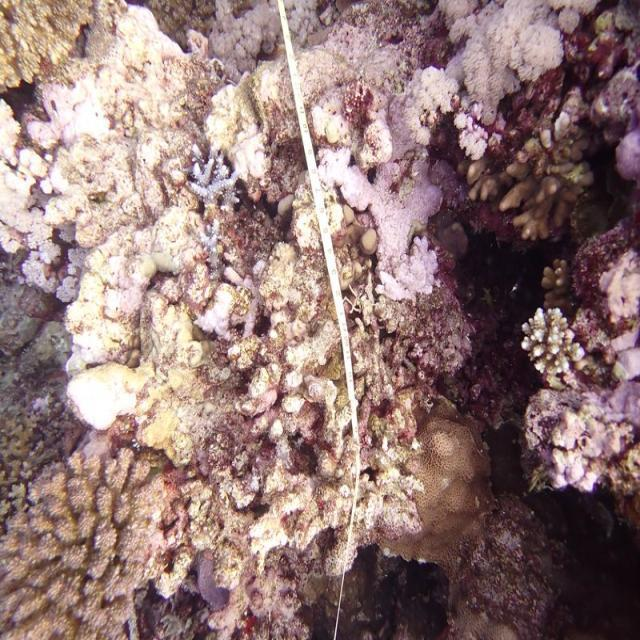Bleached Coral: (343, 166, 476, 307), (444, 0, 579, 117), (179, 154, 255, 216), (544, 455, 611, 498)
Healthy Coral: (0, 461, 168, 640)
